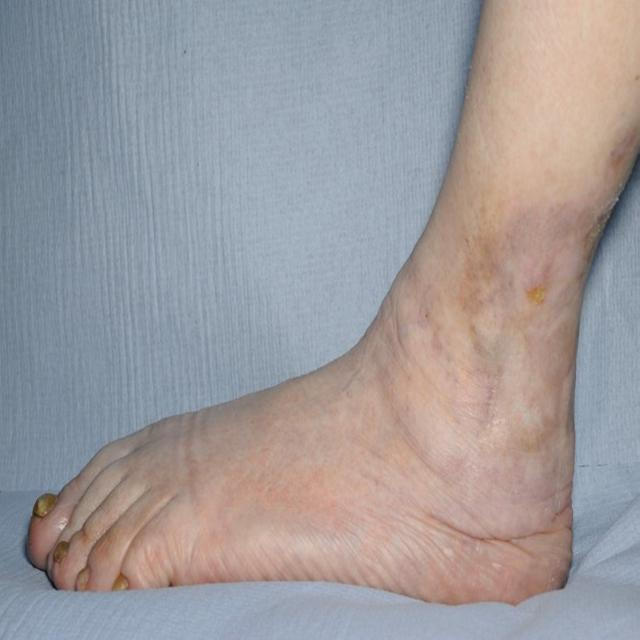wound: (484, 186, 616, 312)
